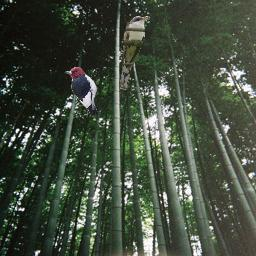Cuckoo: (120, 16, 150, 90)
Woodpecker: (64, 67, 98, 117)
